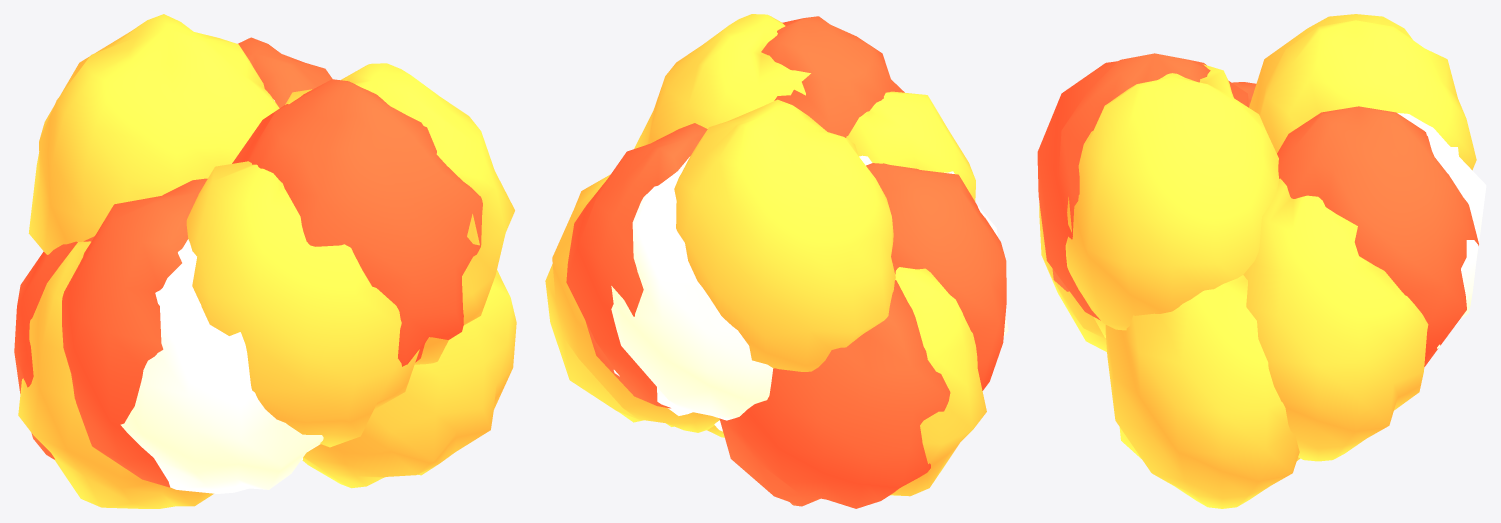
Rendered from kf-blast-core.glb.
3 renders of one model, left to right at view 1: azimuth 30°, elevation 25°; view 2: azimuth 150°, elevation 25°; view 3: azimuth 270°, elevation 25°, orthographic. The views are drawn at different scales.
Visible parts, largest first — view 1: Flame_06 Rolling flame, Flame_11 Cooling flame, Flame_07 Rolling flame, Flame_01 White hot core, Flame_09 Cooling flame, Flame_08 Rolling flame, Flame_04 Rolling flame, Flame_03 Rolling flame, Flame_12 Cooling flame, Flame_10 Cooling flame; view 2: Flame_07 Rolling flame, Flame_12 Cooling flame, Flame_02 White hot core, Flame_09 Cooling flame, Flame_10 Cooling flame, Flame_03 Rolling flame, Flame_11 Cooling flame, Flame_04 Rolling flame, Flame_05 Rolling flame, Flame_06 Rolling flame; view 3: Flame_03 Rolling flame, Flame_05 Rolling flame, Flame_08 Rolling flame, Flame_10 Cooling flame, Flame_07 Rolling flame, Flame_11 Cooling flame, Flame_02 White hot core, Flame_06 Rolling flame.
Part boxes in pixels (x1,y1,x2,y2): Flame_06 Rolling flame: [186, 161, 419, 447]; Flame_11 Cooling flame: [232, 79, 482, 366]; Flame_07 Rolling flame: [28, 14, 279, 254]; Flame_01 White hot core: [120, 239, 323, 493]; Flame_09 Cooling flame: [62, 178, 207, 487]; Flame_08 Rolling flame: [302, 270, 516, 488]; Flame_04 Rolling flame: [18, 241, 213, 508]; Flame_03 Rolling flame: [285, 63, 514, 364]; Flame_12 Cooling flame: [14, 236, 94, 459]; Flame_10 Cooling flame: [238, 37, 332, 107]; Flame_07 Rolling flame: [674, 99, 895, 371]; Flame_12 Cooling flame: [719, 262, 950, 508]; Flame_02 White hot core: [611, 157, 773, 420]; Flame_09 Cooling flame: [866, 163, 1006, 390]; Flame_10 Cooling flame: [566, 123, 707, 408]; Flame_03 Rolling flame: [634, 14, 810, 148]; Flame_11 Cooling flame: [761, 16, 904, 137]; Flame_04 Rolling flame: [890, 267, 986, 496]; Flame_05 Rolling flame: [545, 174, 719, 432]; Flame_06 Rolling flame: [846, 91, 975, 201]; Flame_03 Rolling flame: [1065, 64, 1278, 337]; Flame_05 Rolling flame: [1243, 178, 1428, 461]; Flame_08 Rolling flame: [1105, 275, 1300, 508]; Flame_10 Cooling flame: [1277, 106, 1478, 366]; Flame_07 Rolling flame: [1249, 14, 1476, 170]; Flame_11 Cooling flame: [1037, 53, 1248, 320]; Flame_02 White hot core: [1397, 113, 1486, 348]; Flame_06 Rolling flame: [1039, 203, 1106, 351].
Size of the model in its own units: 2.18 by 2.06 by 2.05.
